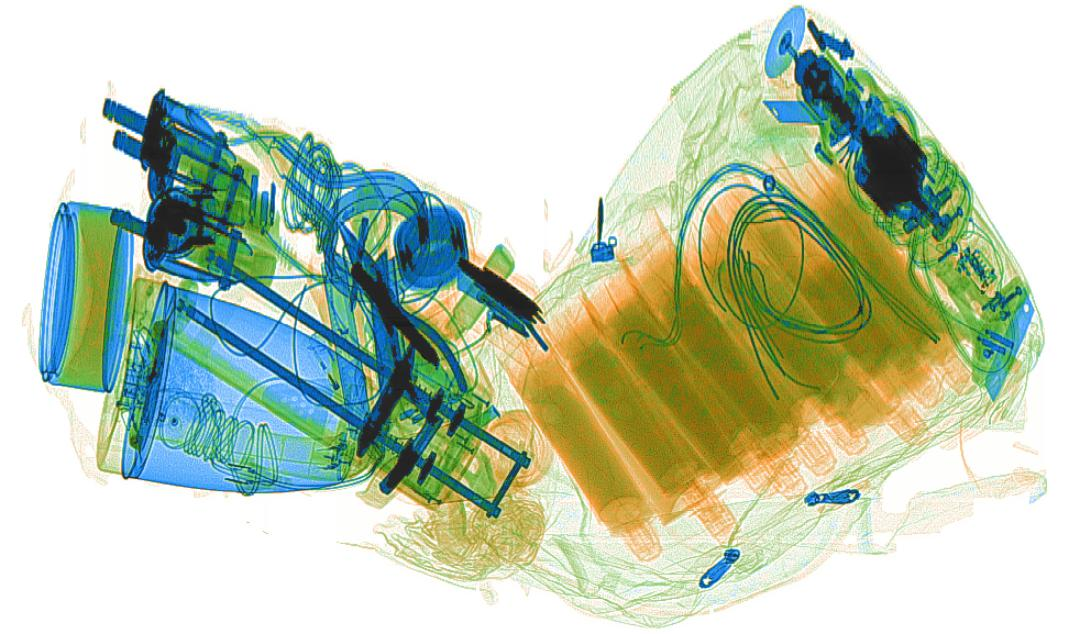knife: (308, 246, 373, 443), (983, 287, 1036, 404), (759, 92, 888, 126)
lighter: (303, 327, 369, 421)
